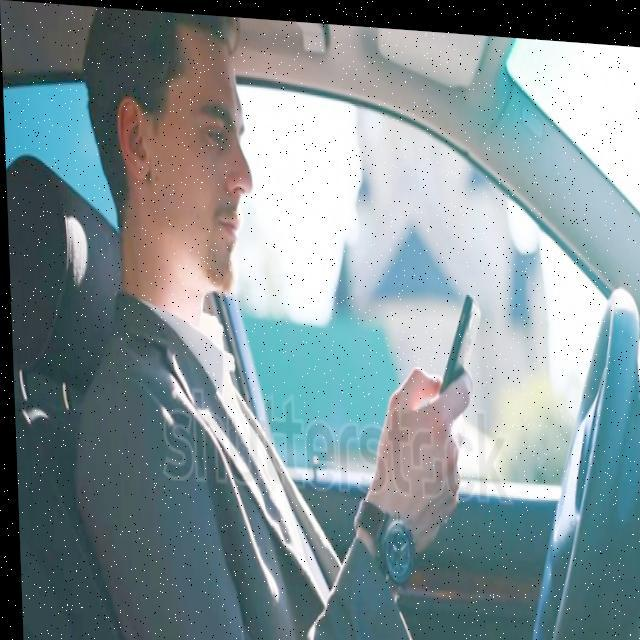PhoneCall: (436, 282, 480, 400)
